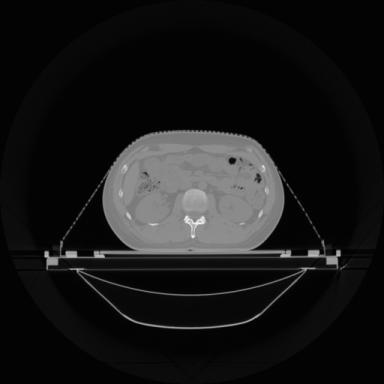body: (104, 131, 284, 250)
cord: (184, 215, 206, 238)
